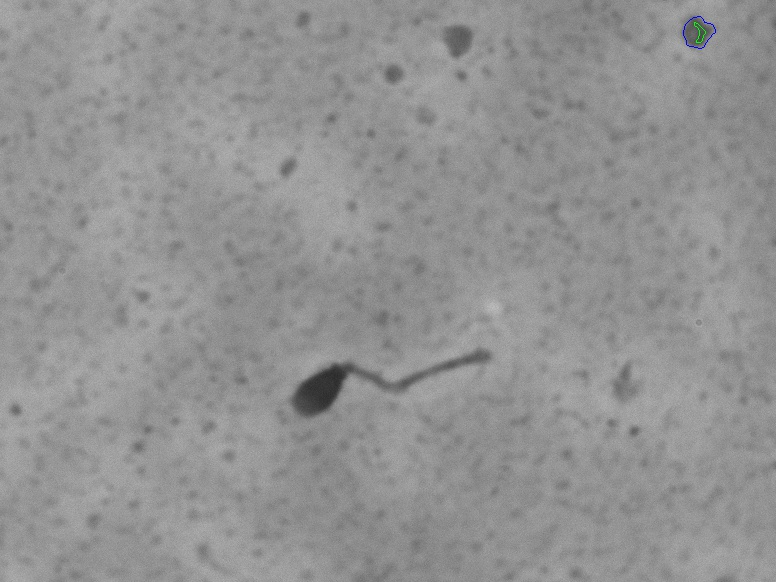Abnormal: (243, 291, 558, 465)
